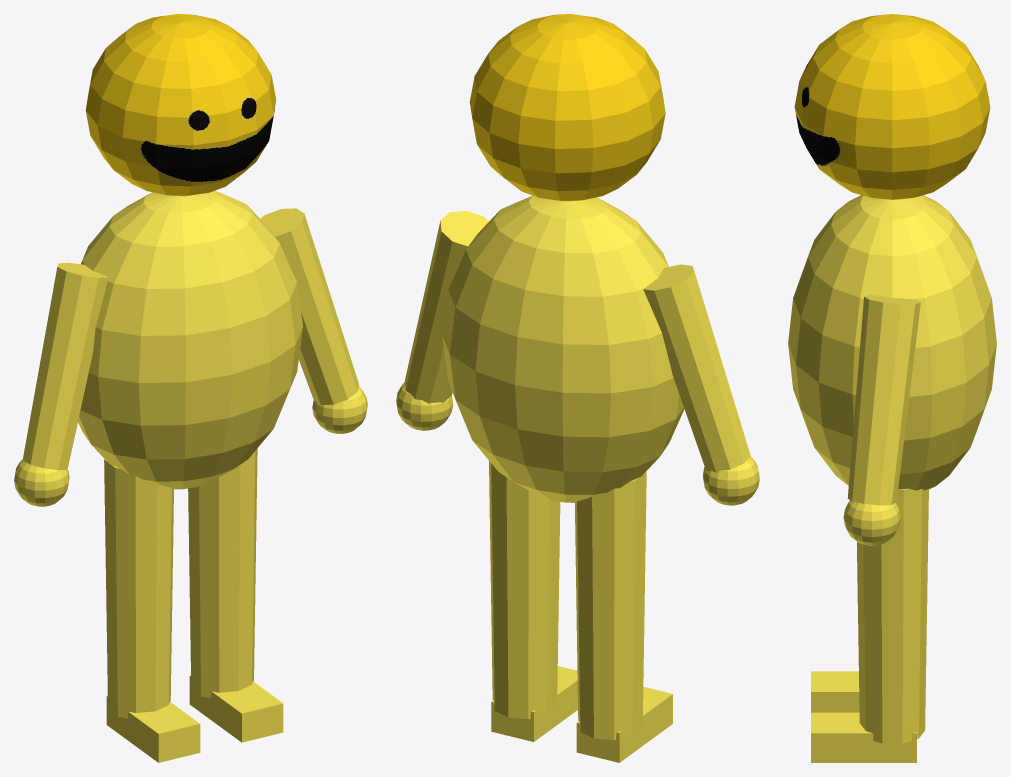
The model's file is partygoer.glb.
3 renders of one model, left to right at view 1: azimuth 30°, elevation 25°; view 2: azimuth 150°, elevation 25°; view 3: azimuth 270°, elevation 25°, orthographic. The views are drawn at different scales.
Visible parts, largest first — view 1: partygoer, head; view 2: partygoer, head; view 3: partygoer, head.
Part boxes in pixels (x1=…): partygoer: x1=14, y1=190, x2=367, y2=762; head: x1=85, y1=14, x2=276, y2=196; partygoer: x1=396, y1=195, x2=759, y2=762; head: x1=469, y1=14, x2=665, y2=201; partygoer: x1=788, y1=195, x2=996, y2=762; head: x1=794, y1=14, x2=990, y2=199.
Size of the model in its own units: 1 by 1.92 by 0.512.
Materials: 2 (1 with a texture image).
